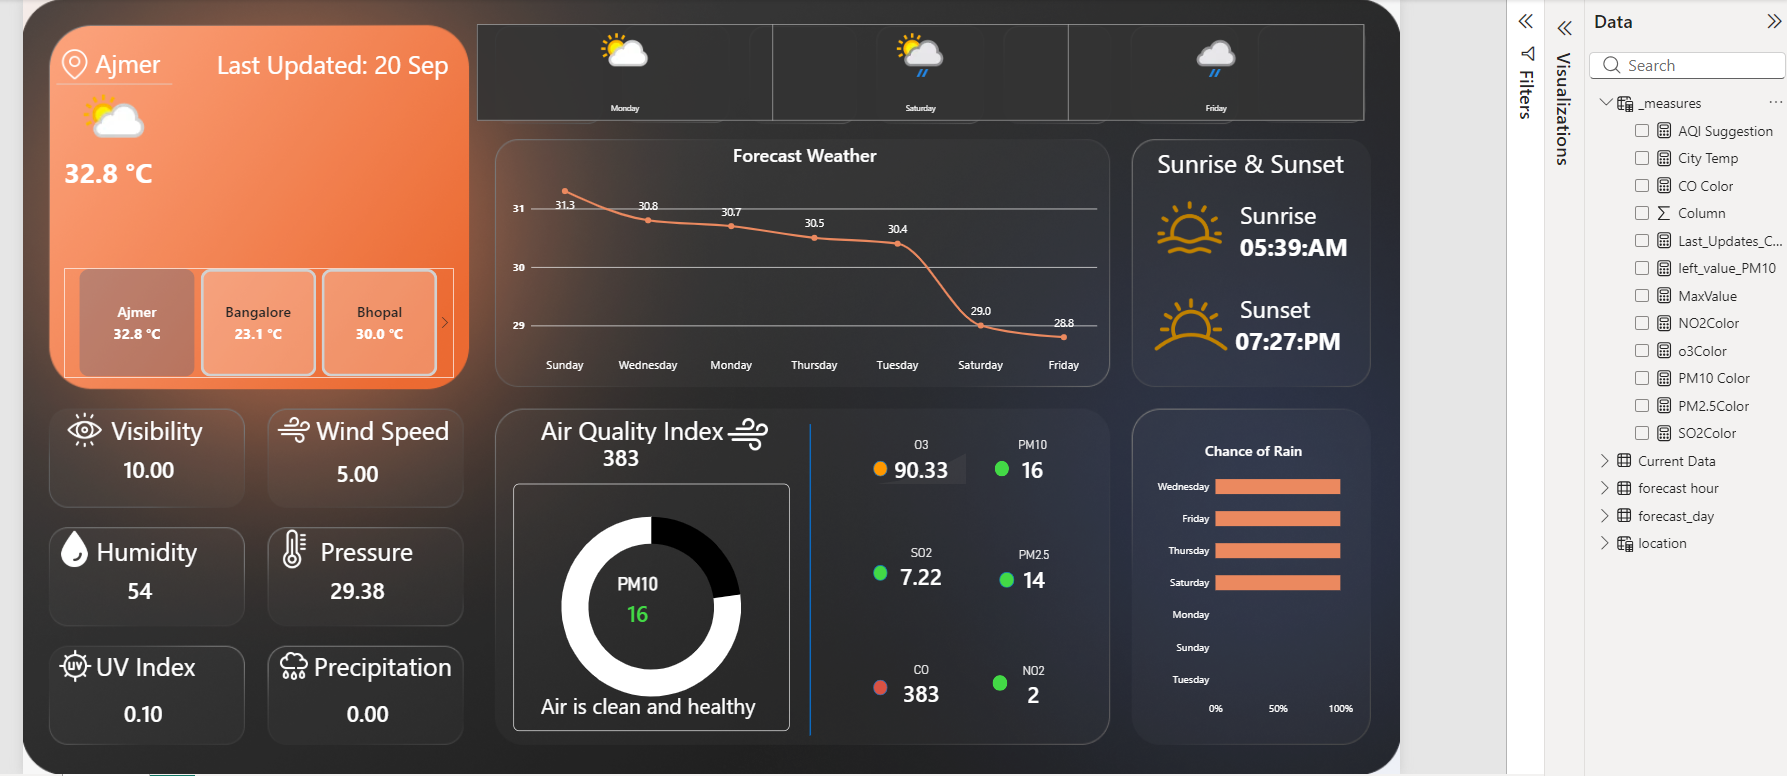

What the dashboard file says about the page in this screenshot:
{"tool":"powerbi","page":{"name":"Page 1","canvas":[1920,1080],"ordinal":0},"visuals":[{"type":"advancedSlicerVisual","fields":{"Values":["location.location.name"]},"box":[57.5,375,542.5,152.5],"z":0},{"type":"shape","box":[270,55,345,70],"z":1000},{"type":"image","box":[50.7,63.4,41.7,54.3],"z":2000},{"type":"cardVisual","fields":{"Data":["Min(Current Data.current.condition.icon)"]},"box":[46,16,162,204],"z":3000},{"type":"image","box":[0,576,172,48],"z":4000},{"type":"shape","box":[58,576,258,48],"z":5000},{"type":"image","box":[208,576,340,48],"z":6000},{"type":"shape","box":[402,576,198,46],"z":7000},{"type":"image","box":[8,740,128,54],"z":8000},{"type":"shape","box":[74,746,198,46],"z":9000},{"type":"image","box":[288,740,182,54],"z":10000},{"type":"shape","box":[380,746,198,46],"z":11000},{"type":"image","box":[0,906,146,48],"z":12000},{"type":"shape","box":[72,906,198,46],"z":13000},{"type":"image","box":[298,906,158,48],"z":14000},{"type":"shape","box":[402,906,198,46],"z":15000},{"type":"kpi","fields":{"Indicator":["Sum(Current Data.current.vis_km)"],"TrendLine":["Current Data.current.vis_km"]},"box":[50,570,252,170],"z":16000},{"type":"kpi","fields":{"Indicator":["Sum(Current Data.current.wind_kph)"],"TrendLine":["Current Data.current.wind_kph"]},"box":[340,576,252,170],"z":17000},{"type":"kpi","fields":{"TrendLine":["Current Data.current.humidity"],"Indicator":["Sum(Current Data.current.humidity)"]},"box":[36,740,252,170],"z":18000},{"type":"kpi","fields":{"Indicator":["Sum(Current Data.current.pressure_in)"],"TrendLine":["Current Data.current.pressure_mb"]},"box":[340,740,252,170],"z":19000},{"type":"kpi","fields":{"Indicator":["Sum(Current Data.current.uv)"],"TrendLine":["Current Data.current.uv"]},"box":[42,910,252,170],"z":20000},{"type":"kpi","fields":{"Indicator":["Sum(Current Data.current.precip_in)"],"TrendLine":["Current Data.current.precip_in"]},"box":[354,910,252,170],"z":21000},{"type":"advancedSlicerVisual","fields":{"Values":["forecast day.forecast.forecastday.day.condition.icon"],"Label":["Min(forecast_day.Day_Formated)"]},"box":[632.3,35.1,1237.4,134.1],"z":22000},{"type":"areaChart","title":"Forecast Weather","fields":{"Y":["Sum(forecast_day.forecast.forecastday.day.avgtemp_c)"],"Category":["forecast_day.Day_Formated"]},"box":[682.5,200,815,327.5],"z":23000},{"type":"shape","box":[1580,200,315,57.5],"z":24000},{"type":"shape","box":[1695,280,180,130],"z":25000},{"type":"shape","box":[1690,410,180,130],"z":26000},{"type":"shape","box":[1695,230,187.5,140],"z":27000},{"type":"shape","box":[1695,365,175,130],"z":28000},{"type":"image","box":[1580,177.5,90,282.5],"z":29000},{"type":"image","box":[1560,382.5,135,140],"z":30000},{"type":"hundredPercentStackedBarChart","title":"Chance of Rain","fields":{"Y":["Sum(forecast_day.forecast.forecastday.day.daily_chance_of_rain)"],"Category":["forecast_day.Day_Formated"]},"box":[1560,600,310,420],"z":31000},{"type":"shape","box":[722,576,276,44],"z":32000},{"type":"kpi","fields":{"Indicator":["Sum(Current Data.current.air_quality.co)"],"TrendLine":["Current Data.current.air_quality.co"]},"box":[708,586,252,106],"z":33000},{"type":"kpi","title":"PM10","fields":{"Indicator":["Sum(Current Data.current.air_quality.pm10)"],"TrendLine":["Current Data.current.air_quality.pm10"]},"box":[1328.3,596.7,156.7,95],"z":34000},{"type":"kpi","title":"O3","fields":{"Indicator":["Sum(forecast_day.forecast.forecastday.day.air_quality.o3)"],"TrendLine":["forecast_day.forecast.forecastday.day.air_quality.o3"]},"box":[1173.3,596.7,156.7,95],"z":35000},{"type":"kpi","title":"SO2","fields":{"Indicator":["Sum(Current Data.current.air_quality.so2)"],"TrendLine":["Current Data.current.air_quality.so2"]},"box":[1173.3,746.7,156.7,95],"z":36000},{"type":"kpi","title":"PM2.5","fields":{"Indicator":["Sum(Current Data.current.air_quality.pm2_5)"],"TrendLine":["Current Data.current.air_quality.pm2_5"]},"box":[1330,750,158,96],"z":37000},{"type":"kpi","title":"CO","fields":{"Indicator":["Sum(Current Data.current.air_quality.co)"],"TrendLine":["Current Data.current.condition.code"]},"box":[1173.3,910,156.7,95],"z":38000},{"type":"kpi","title":"NO2","fields":{"Indicator":["Sum(Current Data.current.air_quality.no2)"],"TrendLine":["Current Data.current.air_quality.no2"]},"box":[1330,911.7,156.7,95],"z":39000},{"type":"shape","box":[1351.1,942.2,21.1,22.2],"z":44000},{"type":"shape","box":[1354,644,20,22],"z":45000},{"type":"shape","box":[57.5,137.5,287.5,207.5],"z":47000},{"type":"shape","box":[100,32.5,560,112.5],"z":48001},{"type":"shape","box":[1361.1,797.8,21.1,22.2],"z":48002},{"type":"shape","box":[1184,644,20,22],"z":48003},{"type":"shape","box":[1184,788,20,22],"z":48004},{"type":"shape","box":[1184,948,20,22],"z":48005},{"type":"shape","box":[918,592,358,434],"z":48006},{"type":"kpi","title":"PM10","fields":{"Indicator":["Sum(Current Data.current.air_quality.pm10)"],"TrendLine":["Current Data.current.air_quality.pm10"]},"box":[778,786,158,112],"z":48007},{"type":"donutChart","fields":{"Y":["Sum(Current Data.current.air_quality.pm10)","_measures.left_value_PM10"]},"box":[683.3,675,385,345],"z":48008},{"type":"image","box":[968,576,84,60],"z":48009},{"type":"shape","box":[721.7,963.3,368.3,43.3],"z":48010}]}

Visuals, with their boxes on the page's 1920x1080 design canvas (x1, y1, x2, y2). These are canvas units, not pixel positions in the 1787x776 screenshot, which may show the page scaled, cropped or inside an application window:
advancedSlicerVisual - location.location.name: <region>58, 375, 600, 528</region>
shape: <region>270, 55, 615, 125</region>
image: <region>51, 63, 92, 118</region>
cardVisual - Min(Current Data.current.condition.icon): <region>46, 16, 208, 220</region>
image: <region>0, 576, 172, 624</region>
shape: <region>58, 576, 316, 624</region>
image: <region>208, 576, 548, 624</region>
shape: <region>402, 576, 600, 622</region>
image: <region>8, 740, 136, 794</region>
shape: <region>74, 746, 272, 792</region>
image: <region>288, 740, 470, 794</region>
shape: <region>380, 746, 578, 792</region>
image: <region>0, 906, 146, 954</region>
shape: <region>72, 906, 270, 952</region>
image: <region>298, 906, 456, 954</region>
shape: <region>402, 906, 600, 952</region>
kpi - Sum(Current Data.current.vis_km) x Current Data.current.vis_km: <region>50, 570, 302, 740</region>
kpi - Sum(Current Data.current.wind_kph) x Current Data.current.wind_kph: <region>340, 576, 592, 746</region>
kpi - Current Data.current.humidity x Sum(Current Data.current.humidity): <region>36, 740, 288, 910</region>
kpi - Sum(Current Data.current.pressure_in) x Current Data.current.pressure_mb: <region>340, 740, 592, 910</region>
kpi - Sum(Current Data.current.uv) x Current Data.current.uv: <region>42, 910, 294, 1080</region>
kpi - Sum(Current Data.current.precip_in) x Current Data.current.precip_in: <region>354, 910, 606, 1080</region>
advancedSlicerVisual - forecast day.forecast.forecastday.day.condition.icon x Min(forecast_day.Day_Formated): <region>632, 35, 1870, 169</region>
"Forecast Weather" areaChart: <region>682, 200, 1498, 528</region>
shape: <region>1580, 200, 1895, 258</region>
shape: <region>1695, 280, 1875, 410</region>
shape: <region>1690, 410, 1870, 540</region>
shape: <region>1695, 230, 1882, 370</region>
shape: <region>1695, 365, 1870, 495</region>
image: <region>1580, 178, 1670, 460</region>
image: <region>1560, 382, 1695, 522</region>
"Chance of Rain" hundredPercentStackedBarChart: <region>1560, 600, 1870, 1020</region>
shape: <region>722, 576, 998, 620</region>
kpi - Sum(Current Data.current.air_quality.co) x Current Data.current.air_quality.co: <region>708, 586, 960, 692</region>
"PM10" kpi: <region>1328, 597, 1485, 692</region>
"O3" kpi: <region>1173, 597, 1330, 692</region>
"SO2" kpi: <region>1173, 747, 1330, 842</region>
"PM2.5" kpi: <region>1330, 750, 1488, 846</region>
"CO" kpi: <region>1173, 910, 1330, 1005</region>
"NO2" kpi: <region>1330, 912, 1487, 1007</region>
shape: <region>1351, 942, 1372, 964</region>
shape: <region>1354, 644, 1374, 666</region>
shape: <region>58, 138, 345, 345</region>
shape: <region>100, 32, 660, 145</region>
shape: <region>1361, 798, 1382, 820</region>
shape: <region>1184, 644, 1204, 666</region>
shape: <region>1184, 788, 1204, 810</region>
shape: <region>1184, 948, 1204, 970</region>
shape: <region>918, 592, 1276, 1026</region>
"PM10" kpi: <region>778, 786, 936, 898</region>
donutChart - Sum(Current Data.current.air_quality.pm10) x _measures.left_value_PM10: <region>683, 675, 1068, 1020</region>
image: <region>968, 576, 1052, 636</region>
shape: <region>722, 963, 1090, 1007</region>
